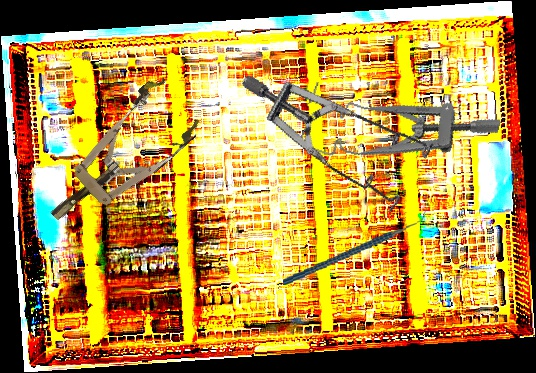Chopper: (277, 207, 433, 286)
Speculum: (239, 13, 453, 246), (28, 72, 208, 243), (295, 64, 503, 200)
